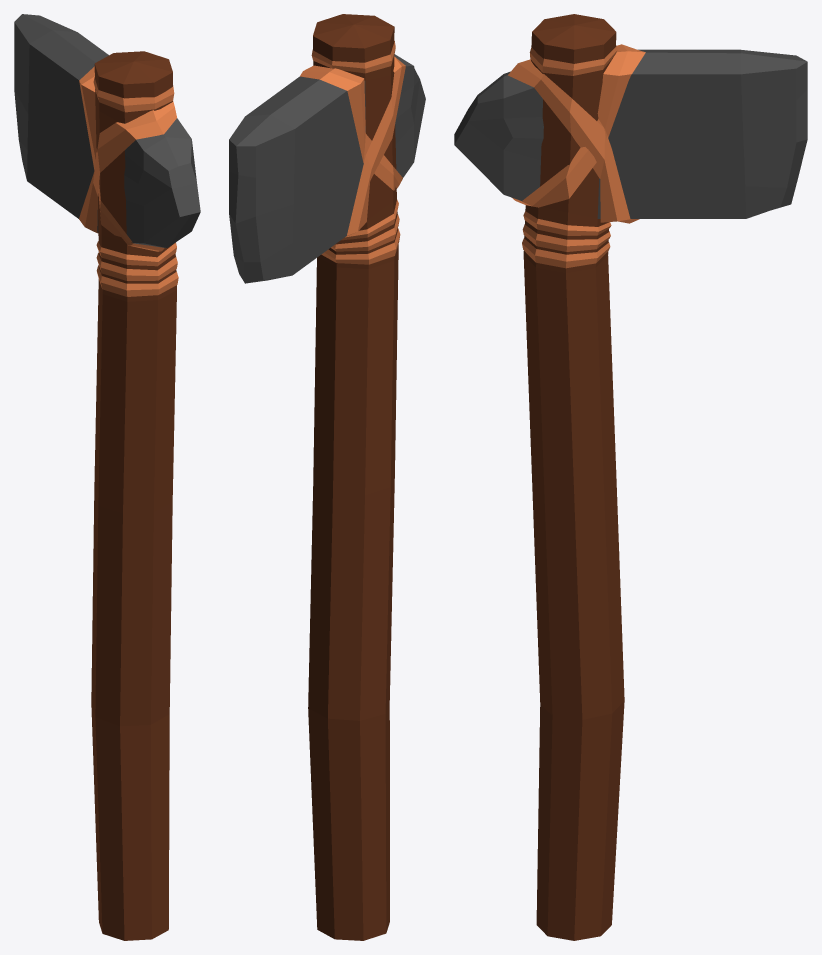
The model's file is Axe_NoTexture.fbx.
3 renders of one model, left to right at view 1: azimuth 30°, elevation 25°; view 2: azimuth 150°, elevation 25°; view 3: azimuth 270°, elevation 25°, orthographic. The views are drawn at different scales.
Visible parts, largest first — view 1: Mango, Piedra, Cuerda_1; view 2: Mango, Piedra, Cuerda_1; view 3: Mango, Piedra, Cuerda_1.
Boxes of the visible parts, x1,y1,x2,y2 form: Mango: (91, 51, 176, 940); Piedra: (14, 14, 200, 247); Cuerda_1: (79, 66, 178, 296); Mango: (308, 14, 398, 940); Piedra: (229, 54, 425, 283); Cuerda_1: (300, 41, 405, 264); Mango: (523, 14, 624, 940); Piedra: (454, 49, 807, 218); Cuerda_1: (508, 44, 645, 268).
Bounding box in the file's own units: 6.47 × 72.16 × 25.59.
